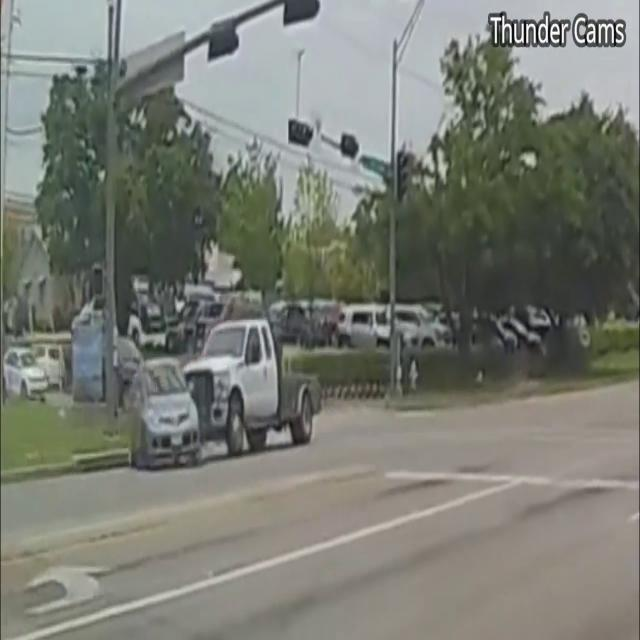accident: (108, 309, 336, 480)
